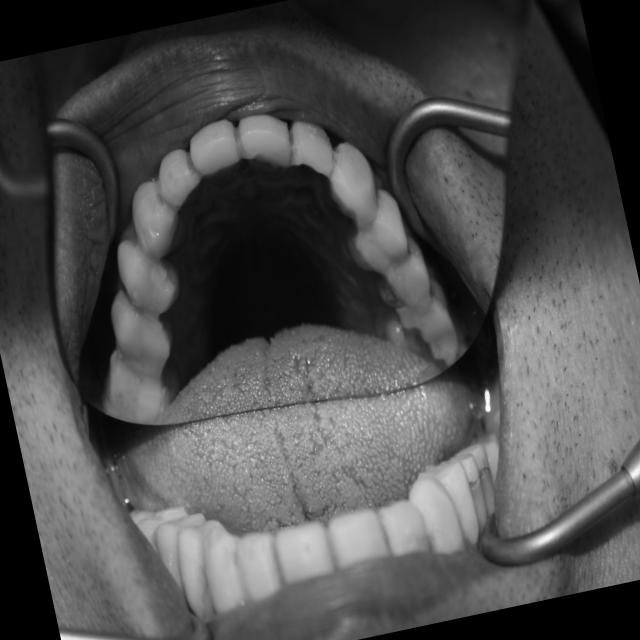tooth: (88, 329, 180, 437), (377, 279, 471, 381), (106, 218, 191, 328), (98, 278, 177, 379), (336, 181, 417, 278), (313, 133, 388, 235), (119, 162, 189, 270), (358, 230, 440, 321), (225, 94, 300, 191), (177, 106, 249, 189), (275, 106, 344, 189), (145, 133, 208, 222)
